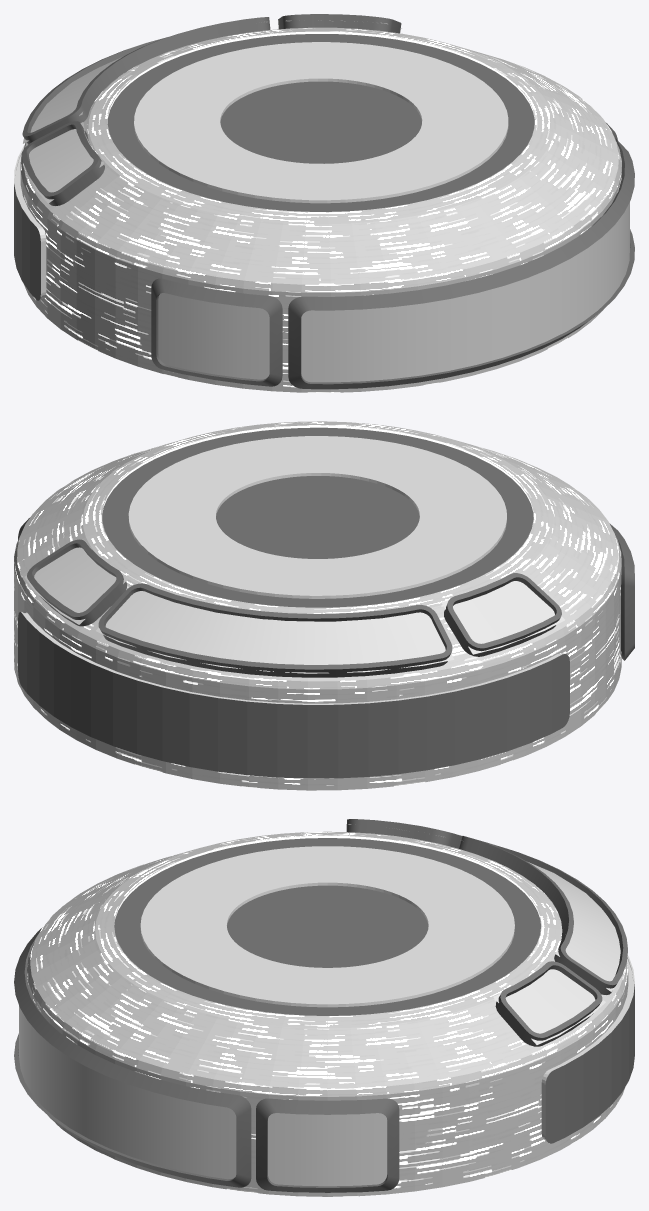
3 views of the same model, one above another, from view 1: azimuth 30°, elevation 25°; view 2: azimuth 150°, elevation 25°; view 3: azimuth 270°, elevation 25° (orthographic).
Visible parts, largest first — view 1: Base, Glass_02, Window_frame_02, Window_frame_03, Glass_03; view 2: Base, Glass_03, Window_frame_03, Window_frame_02; view 3: Base, Glass_02, Window_frame_02, Window_frame_03, Glass_03.
Boxes of the visible parts, x1,y1,x2,y2 form: Base: (14,27,621,392); Glass_02: (158,202,629,382); Window_frame_02: (151,123,634,389); Window_frame_03: (21,14,401,205); Glass_03: (23,20,401,203); Base: (14,421,621,790); Glass_03: (24,539,564,673); Window_frame_03: (27,539,561,677); Window_frame_02: (18,518,634,660); Base: (27,831,634,1196); Glass_02: (19,1006,387,1186); Window_frame_02: (14,927,399,1192); Window_frame_03: (346,819,627,1046); Glass_03: (348,824,621,1044).
Bounding box in the file's own units: 2625 × 752 × 2632.
